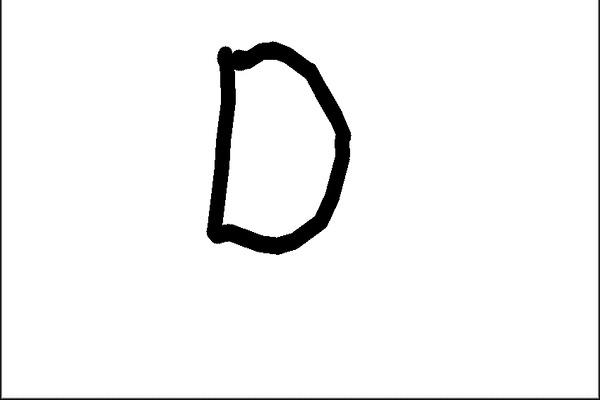D: (202, 35, 356, 256)
